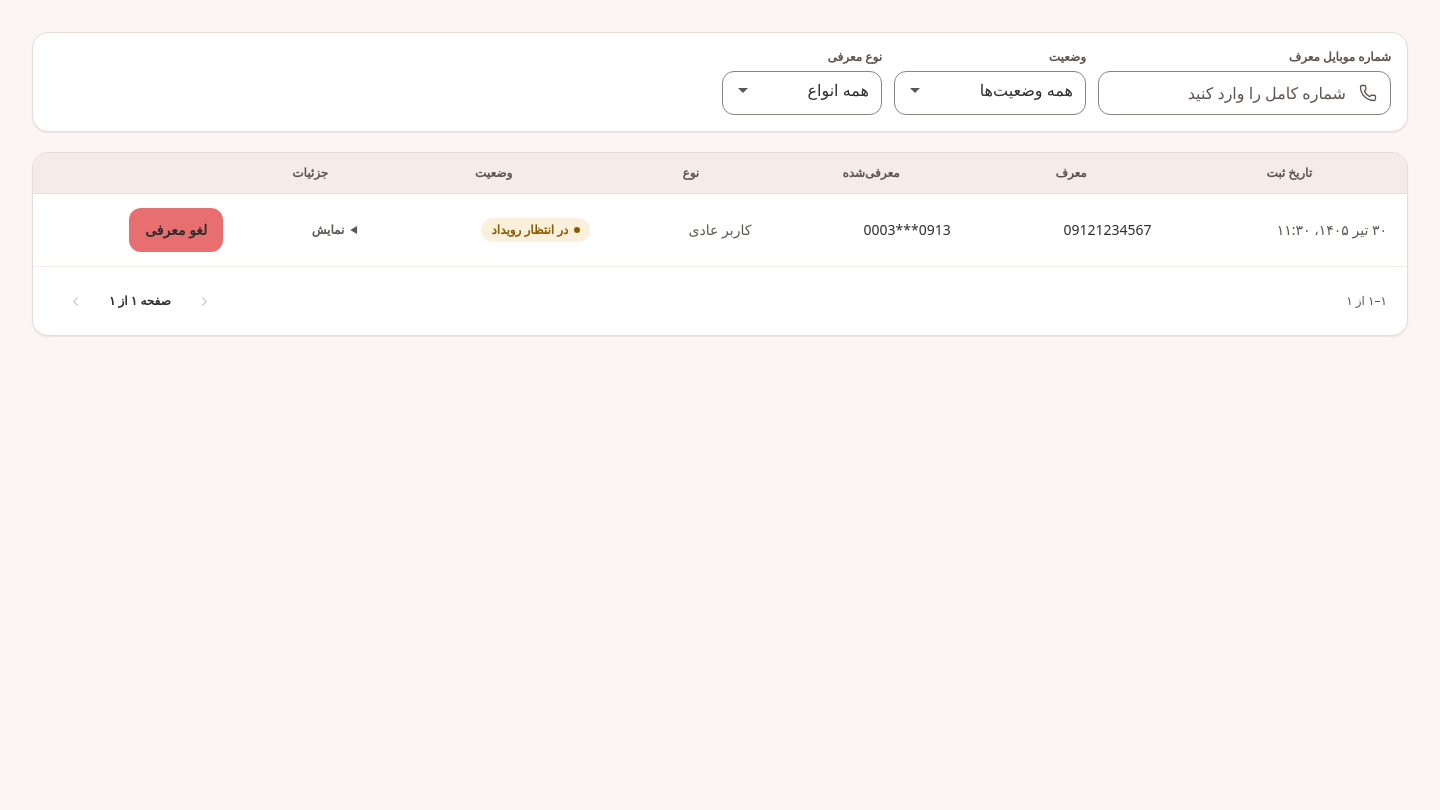
it: ReferralsView › shows a fixed_discount coupon reward's resolved toman amount distinctly from a percent one
Step 1. Click the heading "نمایش" → point(328, 230), box [312,221,344,238]
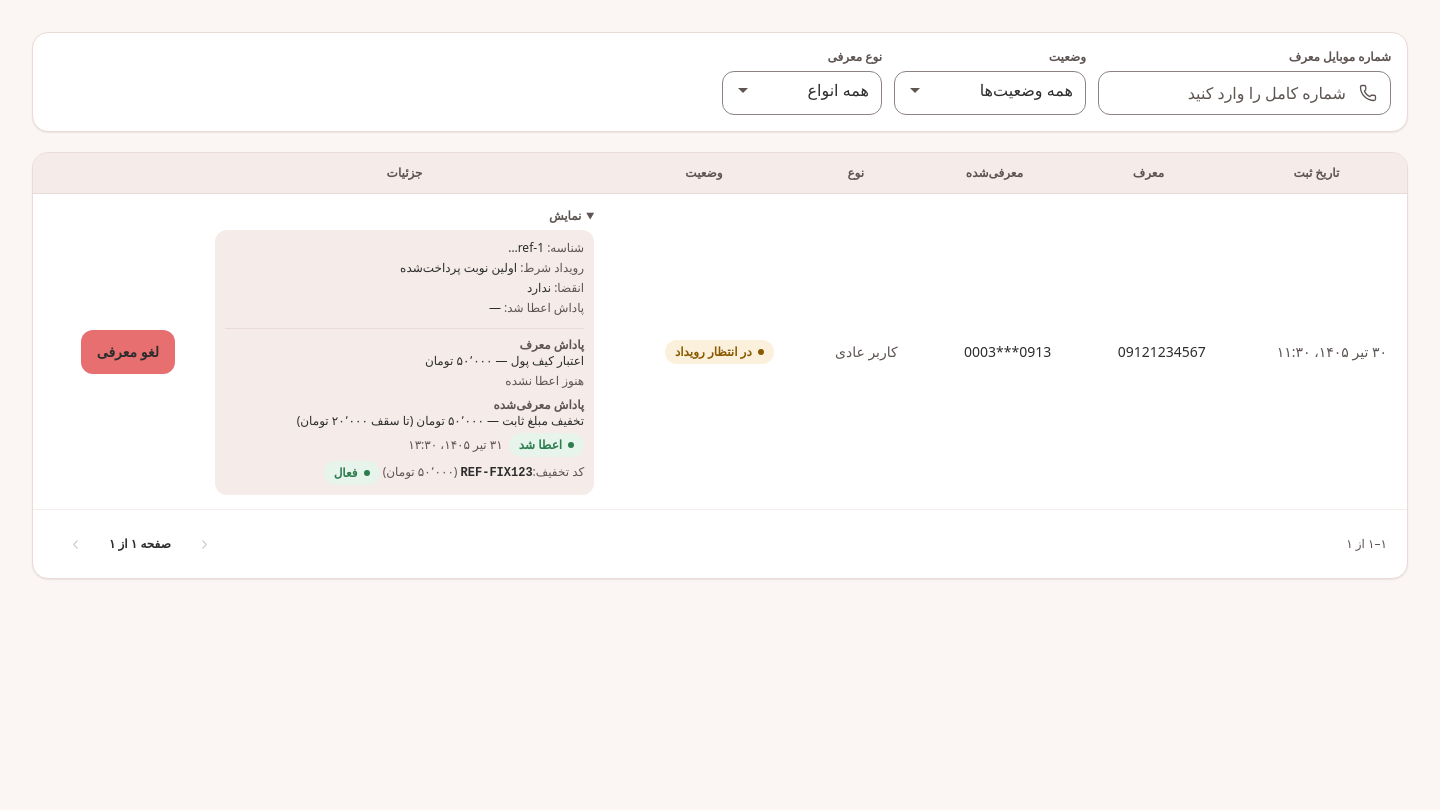
Now the element with test id "reward-status-referred" shows "REF-FIX123", box [461,466,533,480]
Now the element with test id "reward-status-referred" shows "۵۰٬۰۰۰ تومان", box [380,463,461,480]
